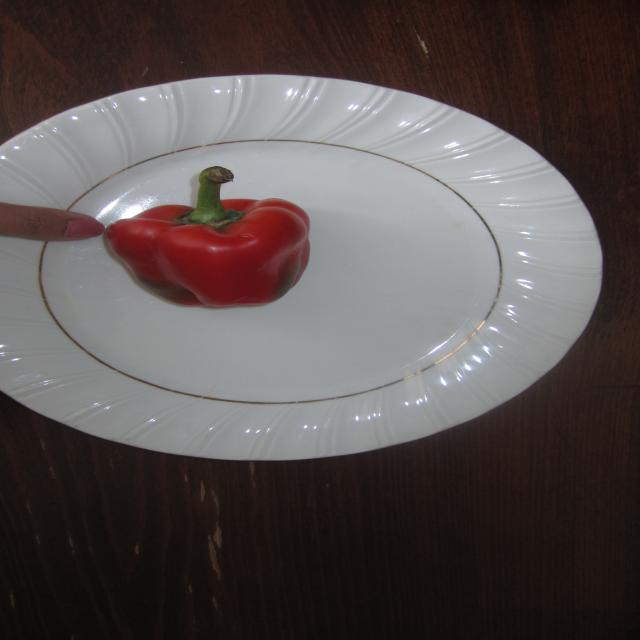Pepper: (104, 165, 311, 308)
